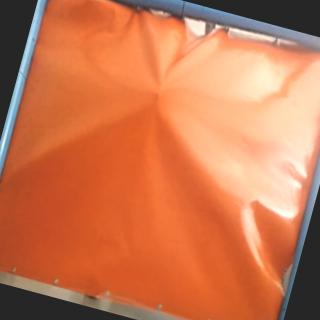Hit-hRxx: (147, 85, 168, 104)
